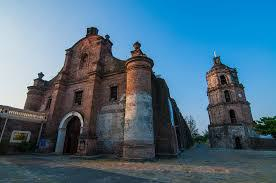santa_maria_church_santa_maria_ilocos_sur: (24, 21, 156, 162)
unfinished_paint: (96, 93, 155, 144)
